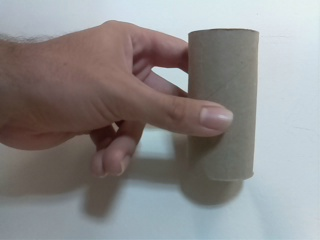rollo papel: (184, 27, 263, 187)
